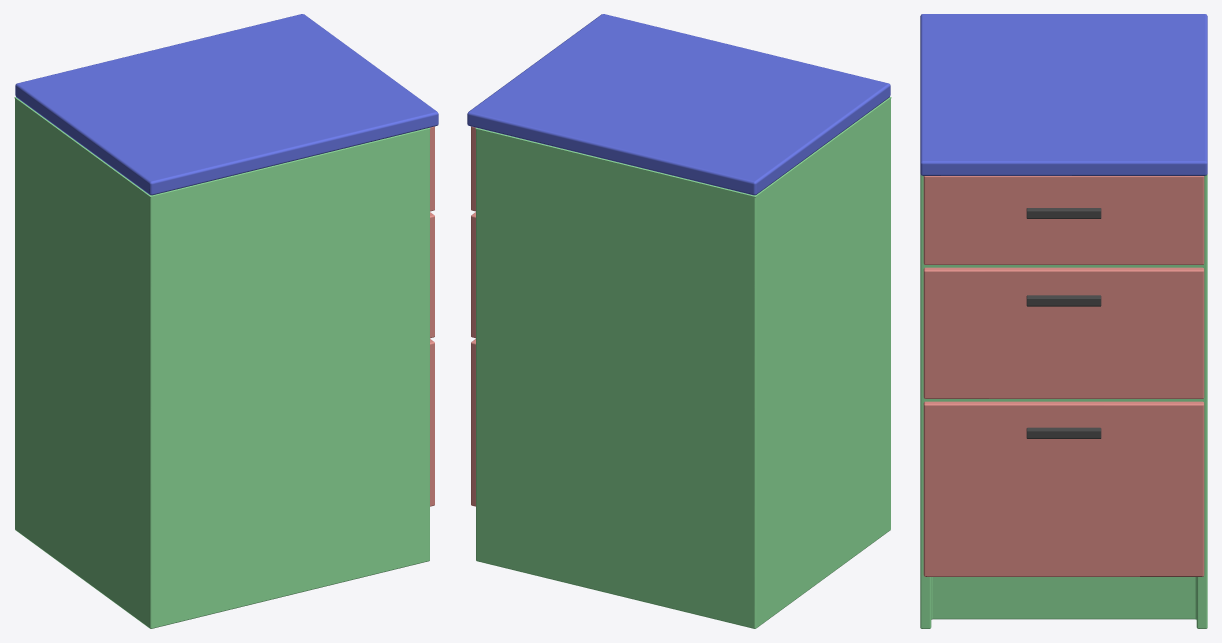
File: cupboard3.fbx
The picture shows the model from 3 angles, left to right: view 1: azimuth 30°, elevation 25°; view 2: azimuth 150°, elevation 25°; view 3: azimuth 270°, elevation 25°; orthographic projection. The views are drawn at different scales.
Parts seen in each view (by area): view 1: right.003, right.004, right.005; view 2: right.003, right.004, right.005; view 3: right.005, right.004, right.003, Cube.017.
Part boxes in pixels (left/top/right/bottom): right.003: left=14, top=97, right=430, bottom=628; right.004: left=15, top=14, right=438, bottom=195; right.005: left=430, top=126, right=434, bottom=506; right.003: left=475, top=97, right=891, bottom=628; right.004: left=467, top=14, right=890, bottom=195; right.005: left=471, top=126, right=475, bottom=506; right.005: left=923, top=176, right=1204, bottom=576; right.004: left=920, top=14, right=1207, bottom=175; right.003: left=920, top=174, right=1207, bottom=628; Cube.017: left=1026, top=208, right=1101, bottom=438.
Size of the model in its own units: 64.39 by 93.08 by 51.37.
